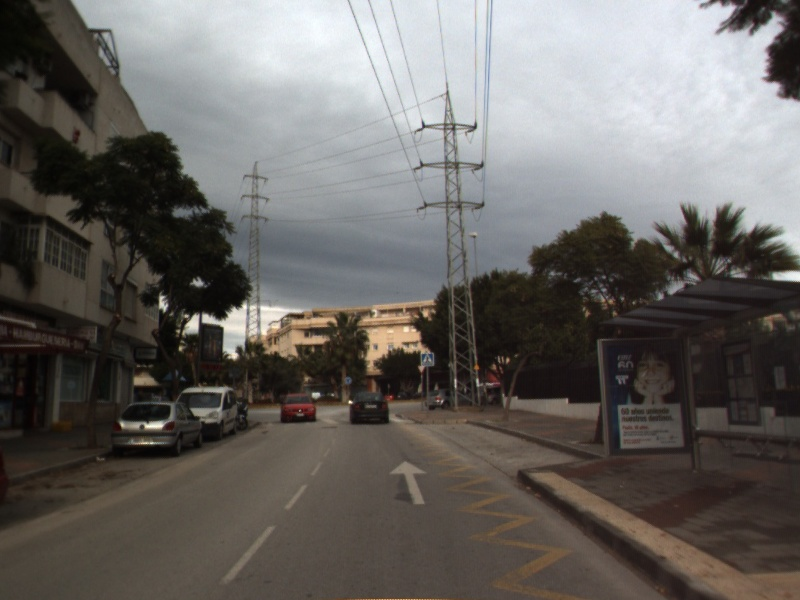STRAIGHT: (387, 458, 431, 506)
